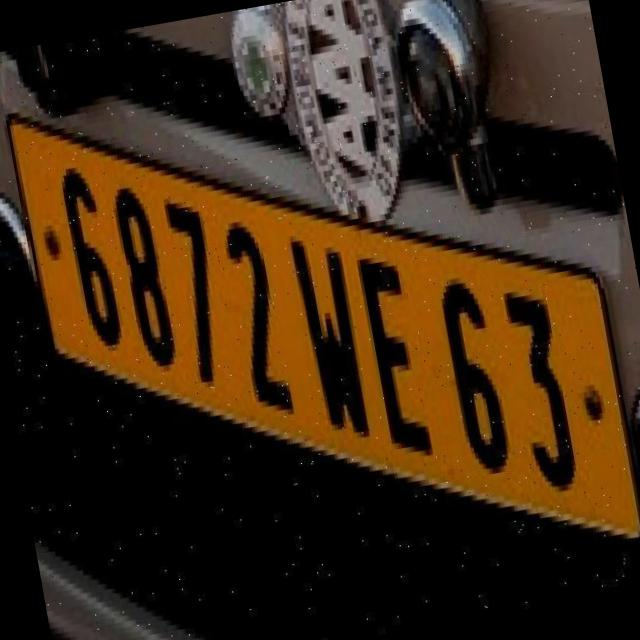LicensePlate: (0, 6, 640, 639)
